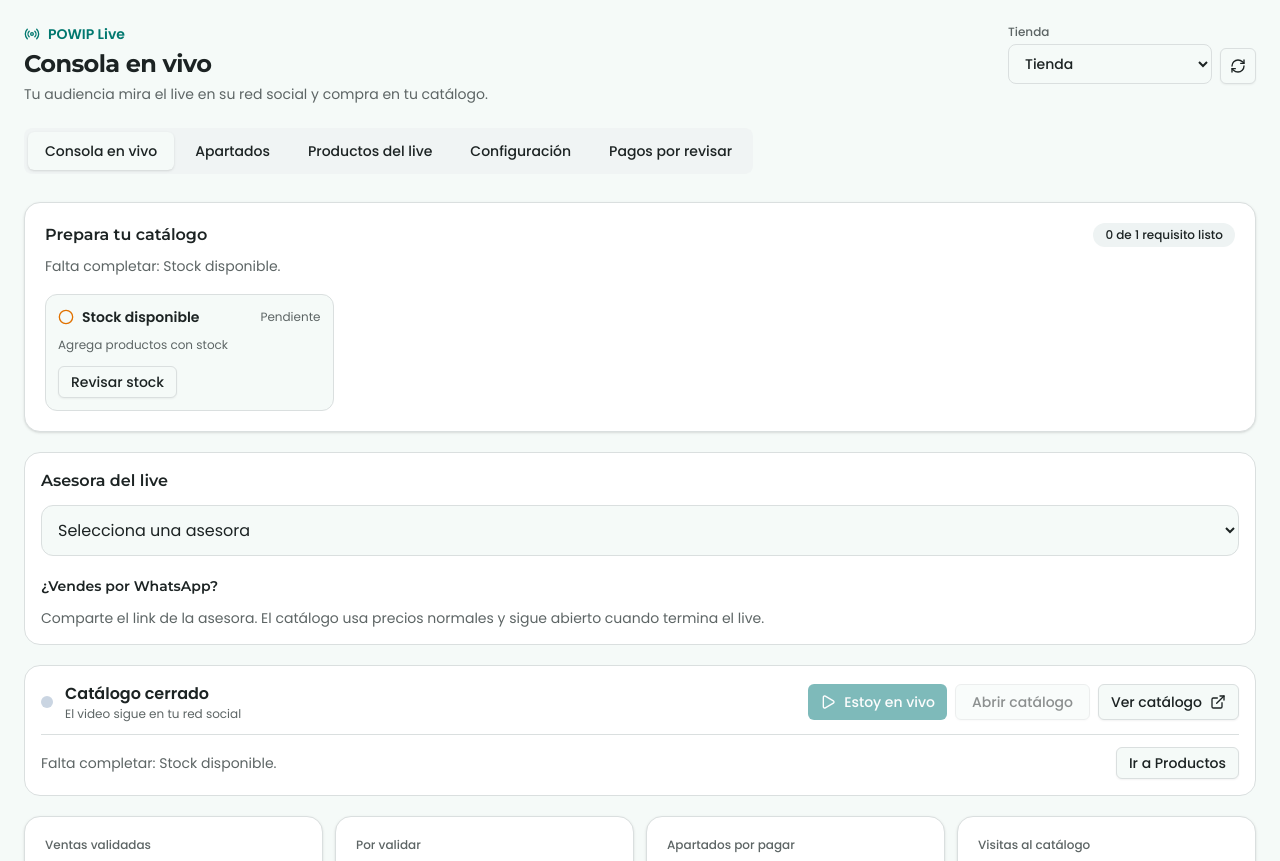
Test case: opening controls stay disabled until the server confirms readiness and purchases are enabled
The image size is (1280, 861).
Expected: the text "Agrega productos con stock" is shown, [58, 336, 228, 353]
Expected: the button "Estoy en vivo" is disabled, [808, 684, 947, 720]
Click the button named "Actualizar live": (1238, 66) [1220, 48, 1256, 84]
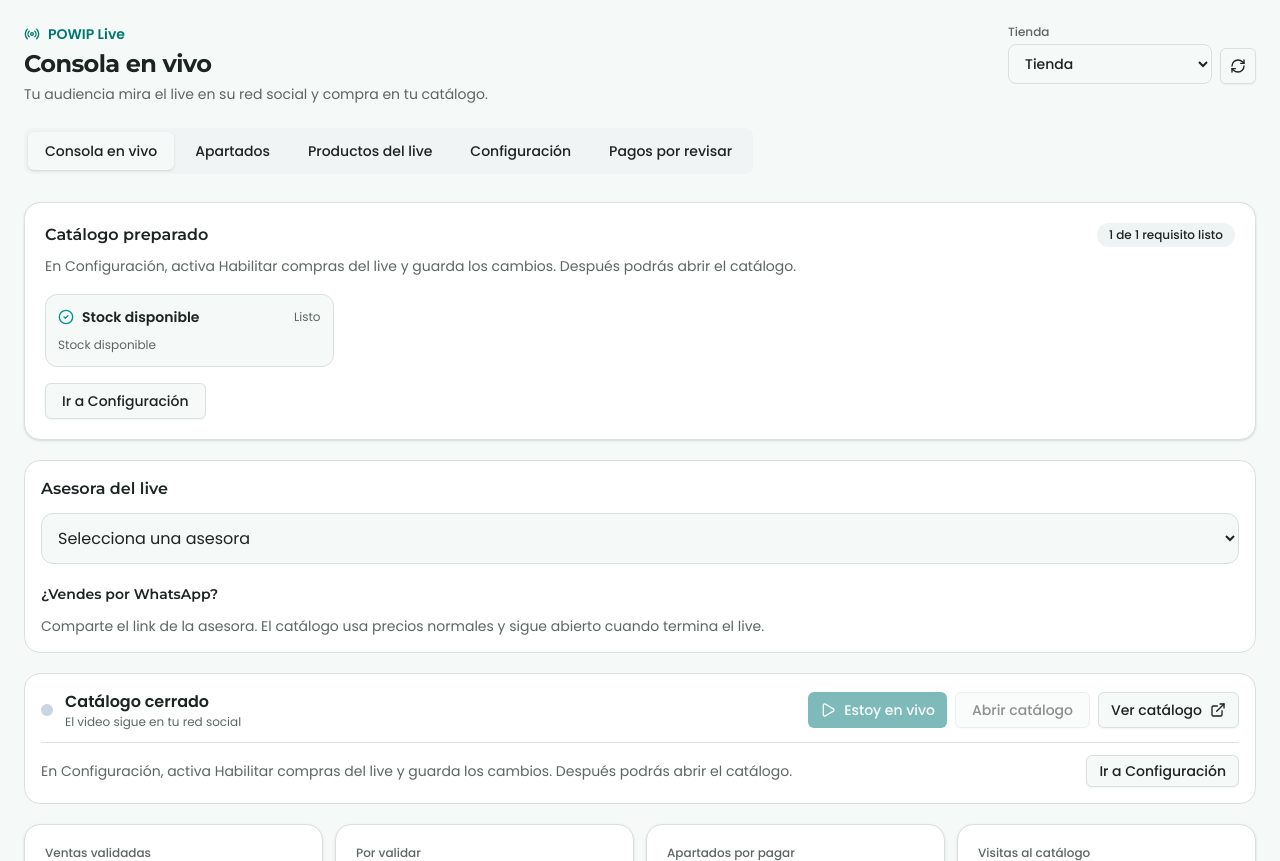
Expected: the button "Estoy en vivo" is disabled, [808, 692, 947, 728]
Now the heading "Catálogo preparado" is shown, box [45, 225, 208, 244]
Click the button named "Actualizar live": (1238, 66) [1220, 48, 1256, 84]
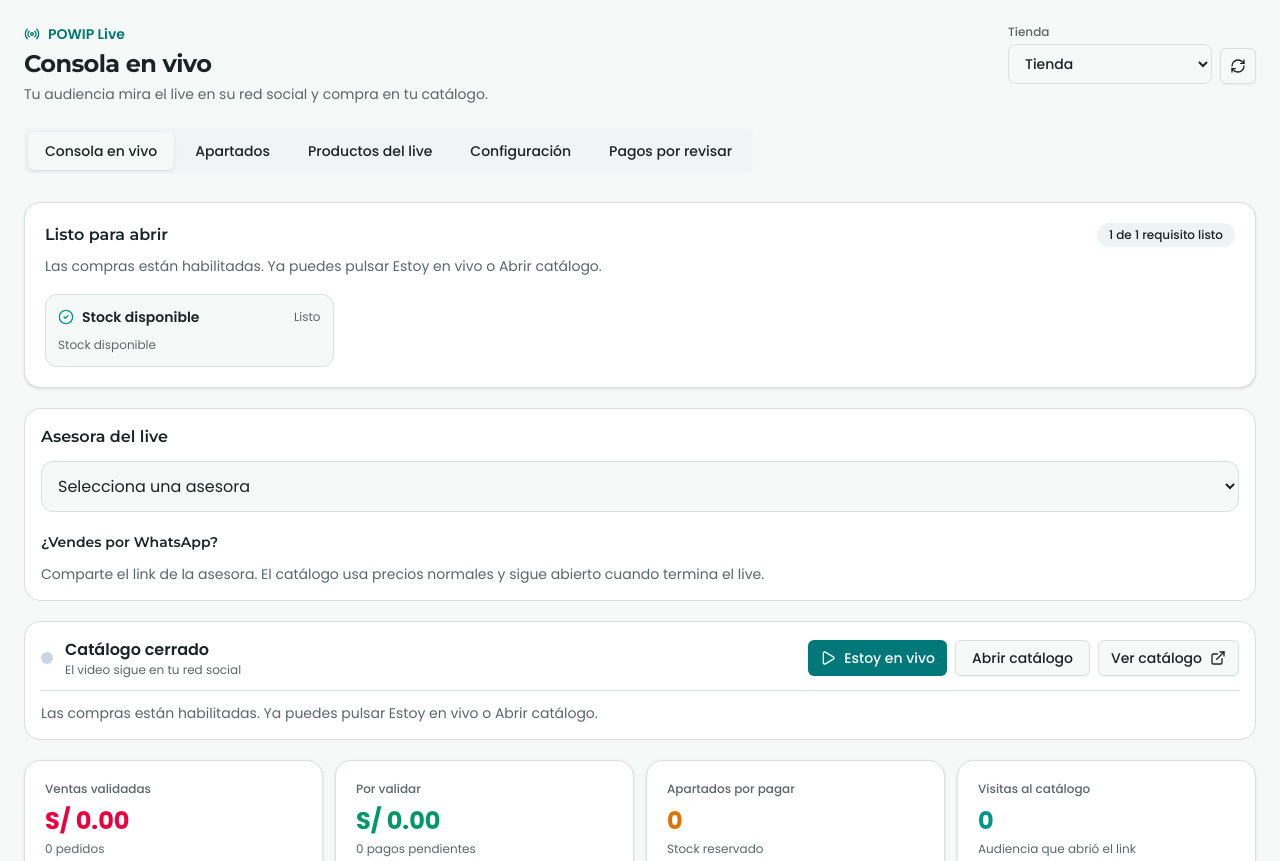
Now the button "Estoy en vivo" is enabled, box [808, 640, 947, 676]
Now the button "Abrir catálogo" is enabled, box [955, 640, 1090, 676]
